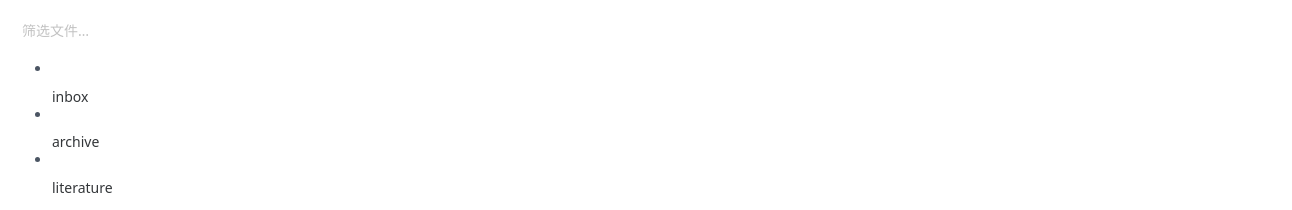
Test: Files filter › matches `#tag` tokens against post.tags (shared with TagPanel)
Type "#redis" into the field with class "search-input" at coordinates (652, 30), box [22,16,1282,44]
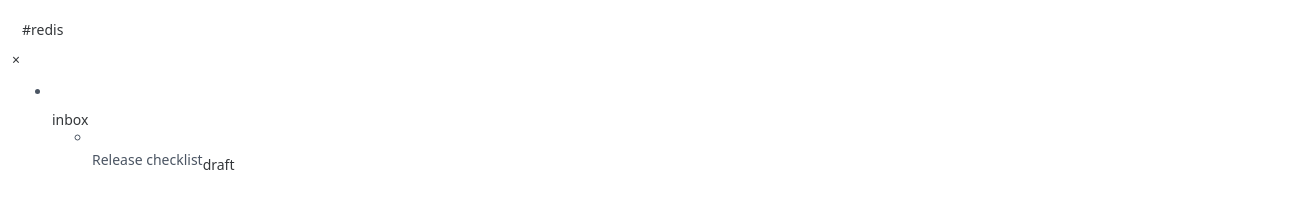
Result: the list item with class "tree-row" showing "Release checklist draft" is shown at [92,150,234,172]
